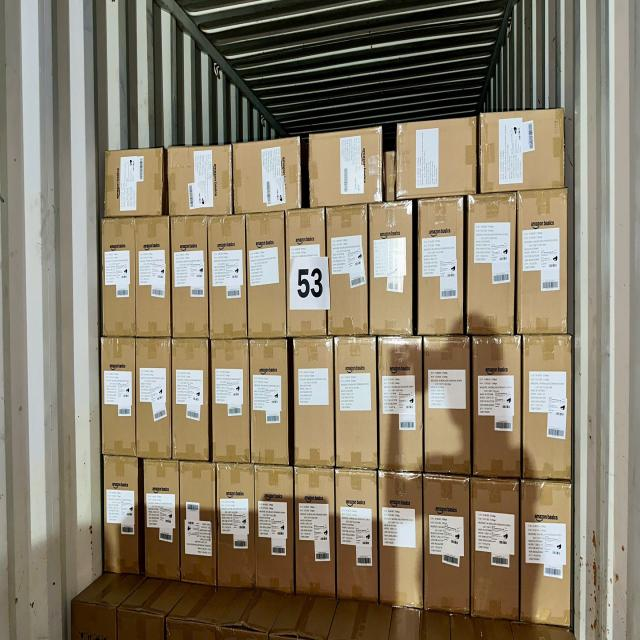Carton: (523, 482, 575, 628), (520, 187, 572, 331), (525, 333, 574, 479), (472, 476, 520, 622), (474, 335, 522, 478), (481, 111, 564, 193), (423, 335, 471, 476), (469, 192, 516, 332), (396, 120, 476, 202), (422, 478, 469, 617), (376, 336, 422, 473), (380, 474, 426, 611), (418, 197, 463, 334), (368, 199, 412, 333), (308, 128, 381, 207), (336, 470, 379, 599), (328, 205, 370, 337), (336, 336, 378, 468), (292, 338, 333, 467), (286, 212, 327, 341), (293, 472, 334, 600), (236, 140, 304, 215), (251, 339, 291, 465), (248, 216, 288, 341), (257, 467, 296, 592), (216, 464, 255, 588), (208, 218, 247, 341), (212, 338, 250, 461), (142, 459, 180, 581), (168, 148, 233, 219), (182, 466, 219, 588), (175, 339, 212, 460), (174, 216, 210, 339), (105, 459, 142, 578), (135, 338, 172, 456), (135, 217, 171, 338), (103, 340, 139, 457), (104, 219, 138, 338), (107, 151, 166, 219)
